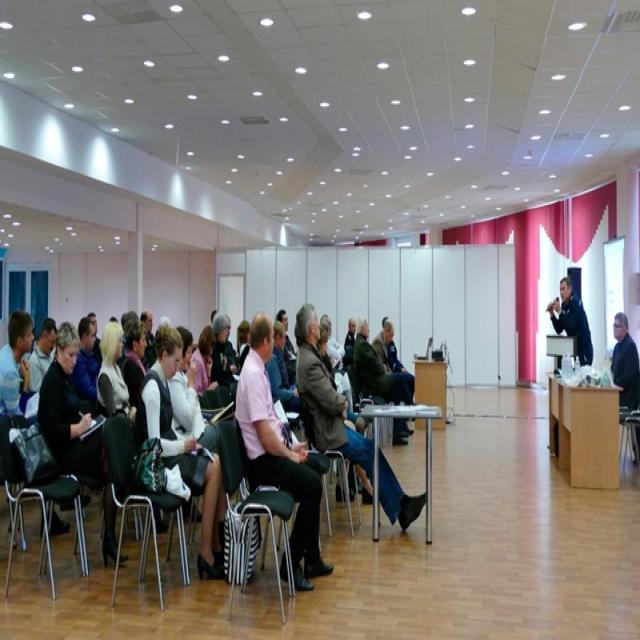body: (294, 300, 434, 540), (230, 311, 337, 595), (133, 319, 227, 583), (36, 318, 130, 569), (0, 310, 72, 541), (293, 319, 375, 506), (167, 324, 233, 506), (316, 324, 370, 496), (353, 316, 420, 422), (265, 319, 316, 438), (370, 316, 411, 441), (546, 275, 594, 368), (319, 312, 359, 414), (382, 315, 415, 421), (610, 311, 640, 425), (105, 305, 154, 374), (119, 320, 150, 416), (72, 315, 102, 404), (210, 312, 242, 395), (26, 317, 57, 393), (190, 323, 220, 398), (210, 311, 237, 390), (274, 308, 298, 388), (140, 307, 158, 371), (85, 310, 103, 368), (236, 317, 252, 375), (199, 306, 224, 334), (343, 316, 357, 357)
